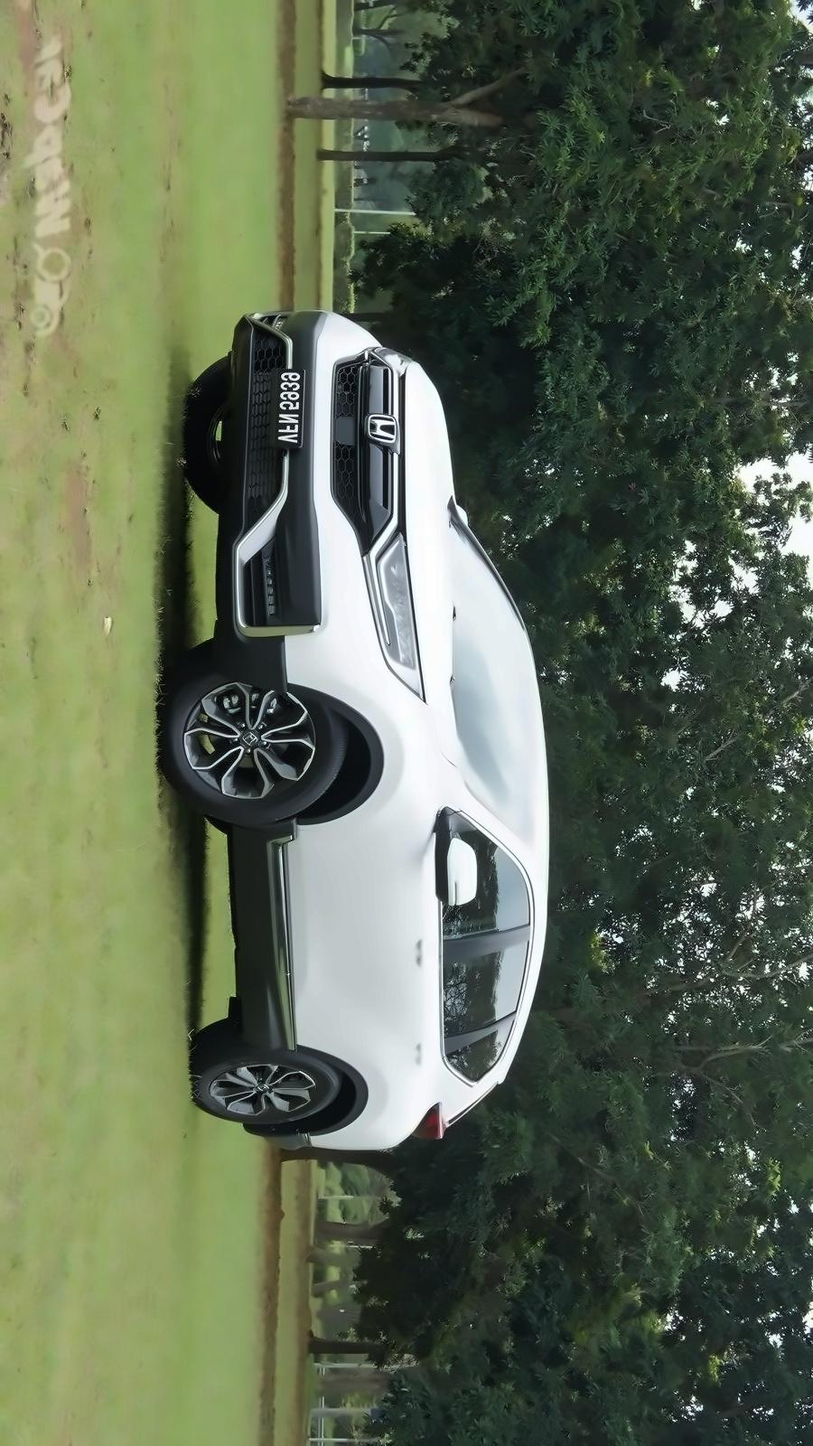Car hood: (400, 359, 458, 752)
Fender - -R-L-: (296, 1035, 440, 1164)
Front bumper: (225, 308, 376, 678)
Headlight - -L-: (365, 527, 428, 701)
Passenger-s door - -F-L-: (221, 807, 555, 975)
Passenger-s door - -R-L-: (227, 911, 550, 1077)
Rear light - -L-: (387, 1103, 445, 1153)
Side bumper - -L-: (211, 818, 314, 1050)
Side mirror - -L-: (429, 807, 482, 911)
